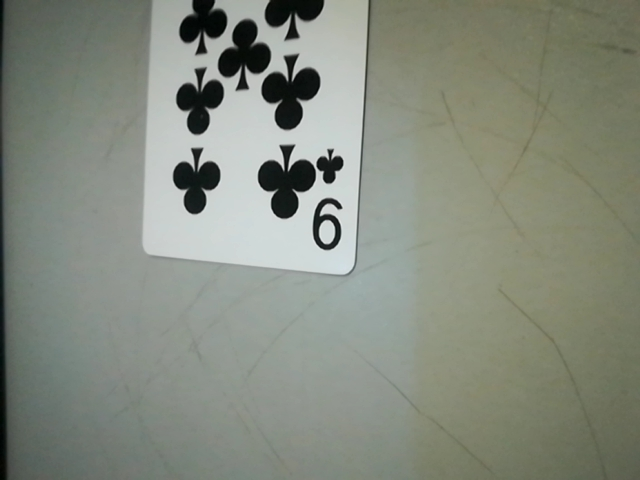mh 9: (305, 145, 357, 265)
